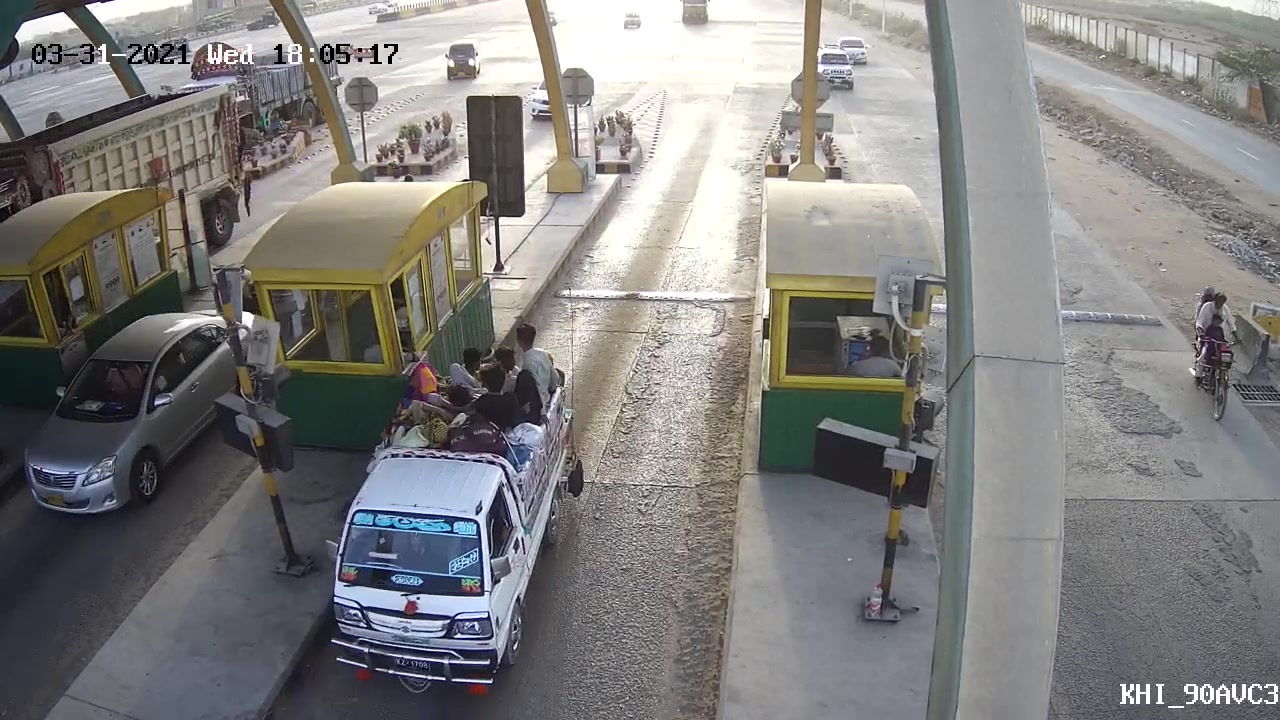F1: (322, 324, 582, 700)
